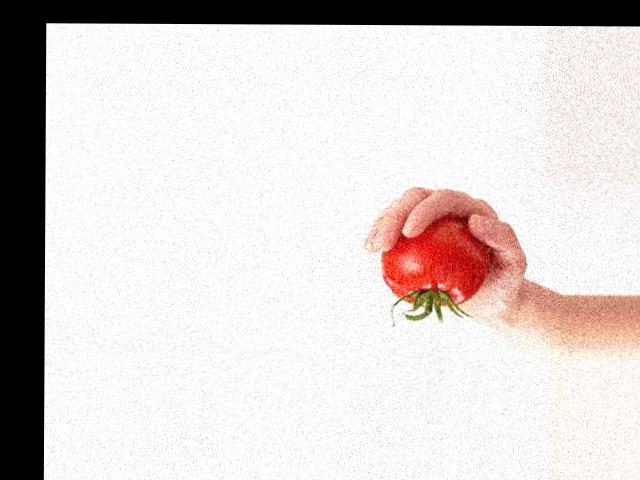tomato: (381, 216, 485, 307)
